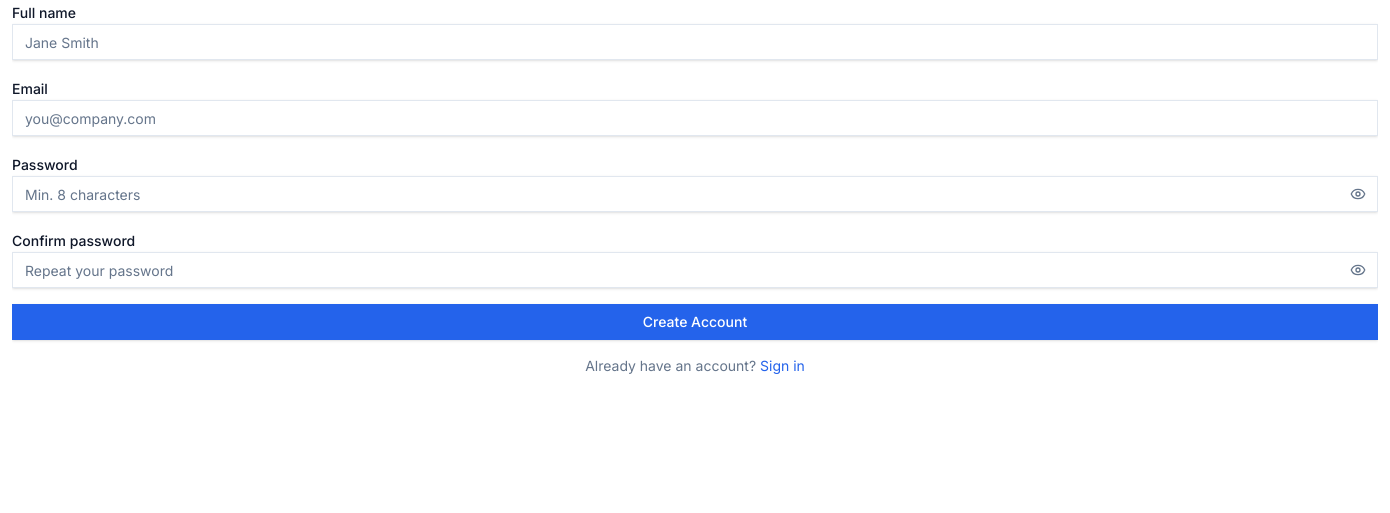
Scenario: RegisterForm — validation › shows error when name is too short
In the field labelled "Full name": (695, 42) [12,24,1378,60], type "A"
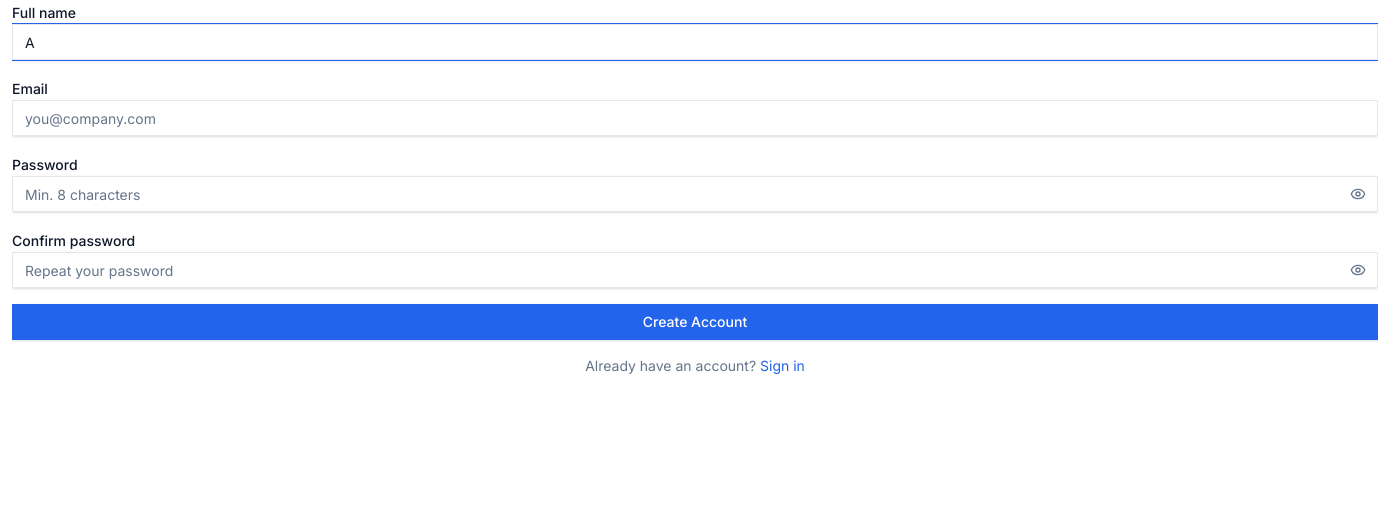
Click the button "Create Account": click(695, 322) [12,304,1378,340]
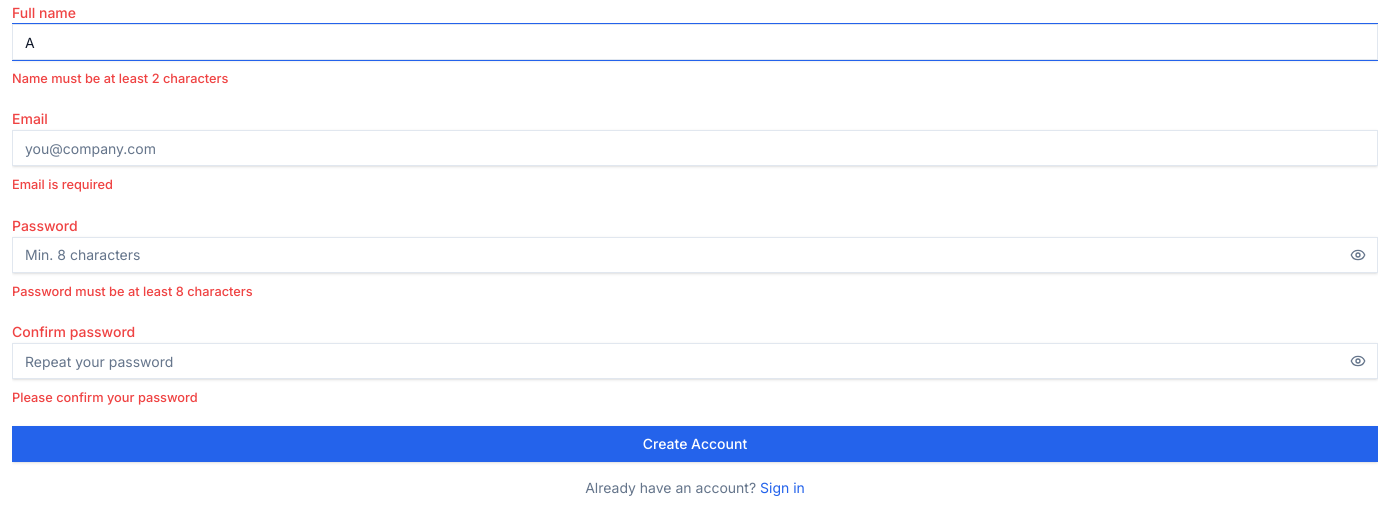
Check: the text "Name must be at least 2 characters" is shown, box [12,71,228,86]
